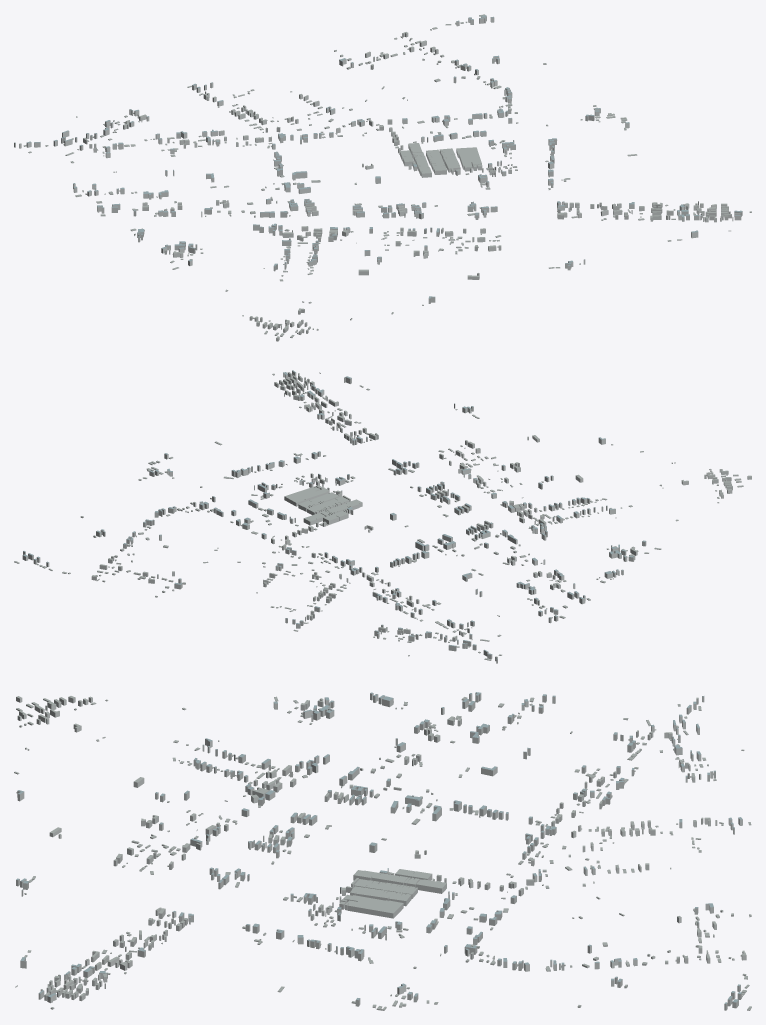
File: far.glb
The picture shows the model from 3 angles, top to bottom: view 1: azimuth 30°, elevation 25°; view 2: azimuth 150°, elevation 25°; view 3: azimuth 270°, elevation 25°; orthographic projection. The views are drawn at different scales.
Bounding box in the file's own units: 2099 × 23.5 × 2089.
